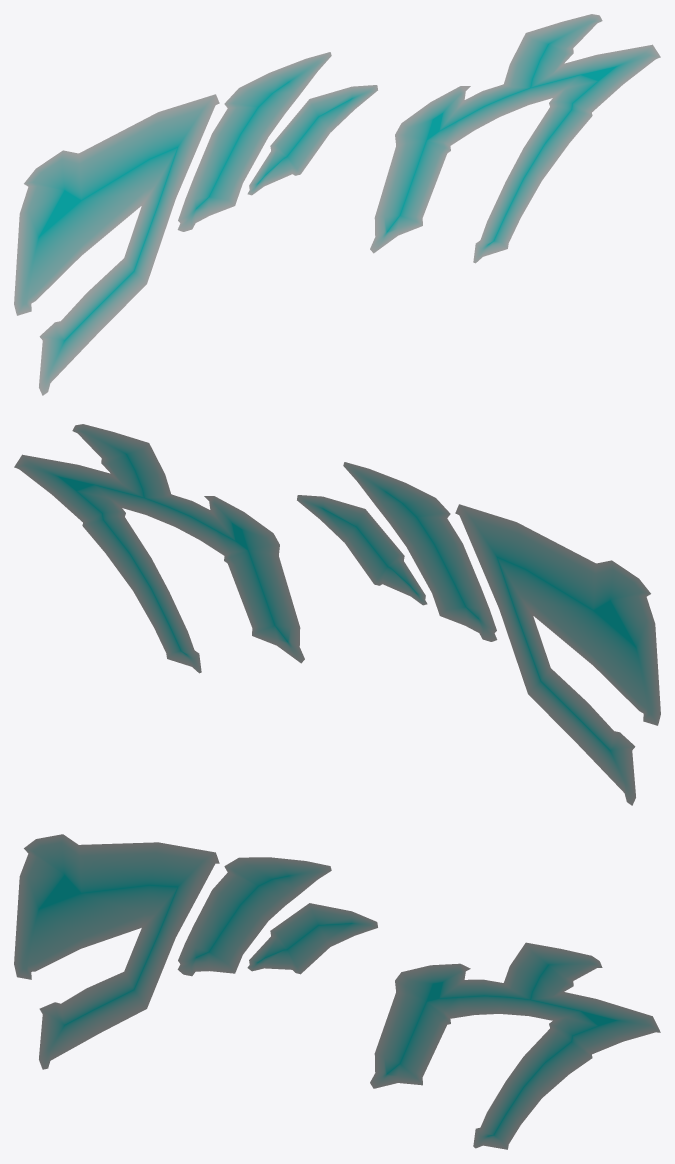
Rendered from SM_EFF_Text_Gokakyu_01.glb.
3 renders of one model, top to bottom at view 1: azimuth 30°, elevation 25°; view 2: azimuth 150°, elevation 25°; view 3: azimuth 330°, elevation 25°, orthographic.
Visible parts, largest first — view 1: SM_EFF_Text_Gokakyu_01; view 2: SM_EFF_Text_Gokakyu_01; view 3: SM_EFF_Text_Gokakyu_01.
Part boxes in pixels (x1,y1,x2,y2): SM_EFF_Text_Gokakyu_01: [14, 14, 660, 395]; SM_EFF_Text_Gokakyu_01: [14, 424, 660, 805]; SM_EFF_Text_Gokakyu_01: [14, 834, 660, 1149].
Bounding box in the file's own units: 1.62 × 0.6539 × 4e-17.
